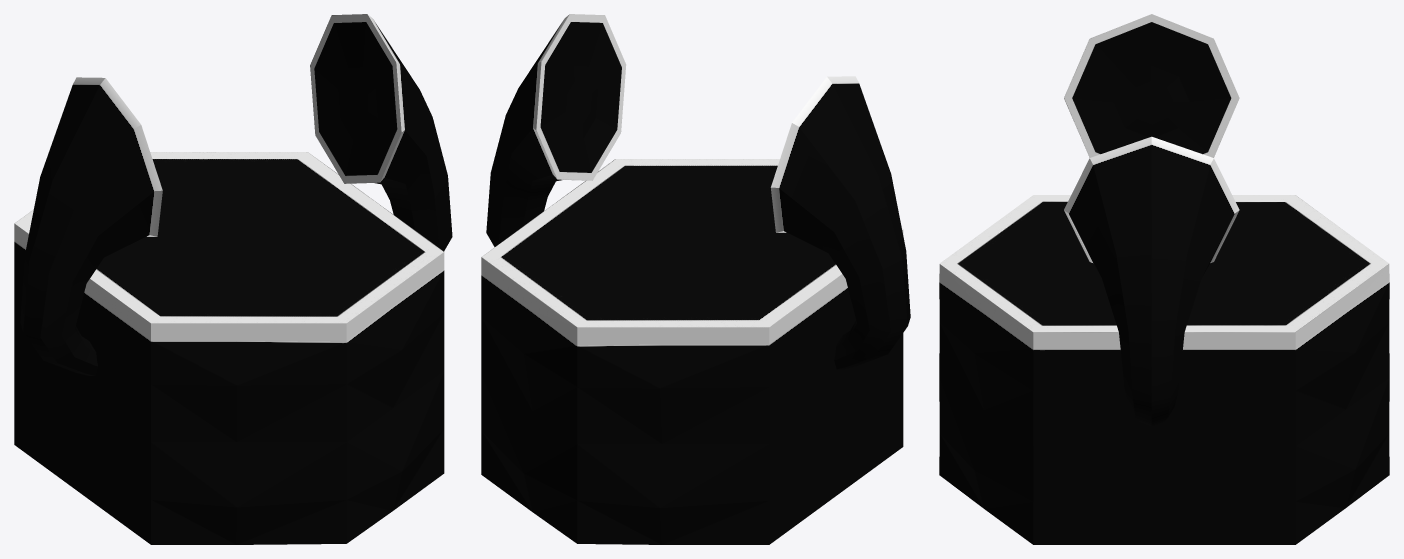
Rendered from LaserTower.fbx.
3 views of the same model, side by side, from view 1: azimuth 30°, elevation 25°; view 2: azimuth 150°, elevation 25°; view 3: azimuth 270°, elevation 25° (orthographic). The views are drawn at different scales.
Visible parts, largest first — view 1: hexBase, hexTop3, hexTop; view 2: hexBase, hexTop3, hexTop; view 3: hexBase, hexTop, hexTop3.
Boxes of the visible parts, left/top/right/bottom form: hexBase: left=14, top=152, right=444, bottom=544; hexTop3: left=20, top=77, right=162, bottom=375; hexTop: left=310, top=14, right=452, bottom=251; hexBase: left=481, top=159, right=903, bottom=544; hexTop3: left=770, top=76, right=910, bottom=369; hexTop: left=486, top=14, right=626, bottom=246; hexBase: left=939, top=195, right=1389, bottom=544; hexTop: left=1064, top=136, right=1239, bottom=426; hexTop3: left=1064, top=14, right=1239, bottom=157.
Bounding box in the file's own units: 2.52 × 2.36 × 2.4.
